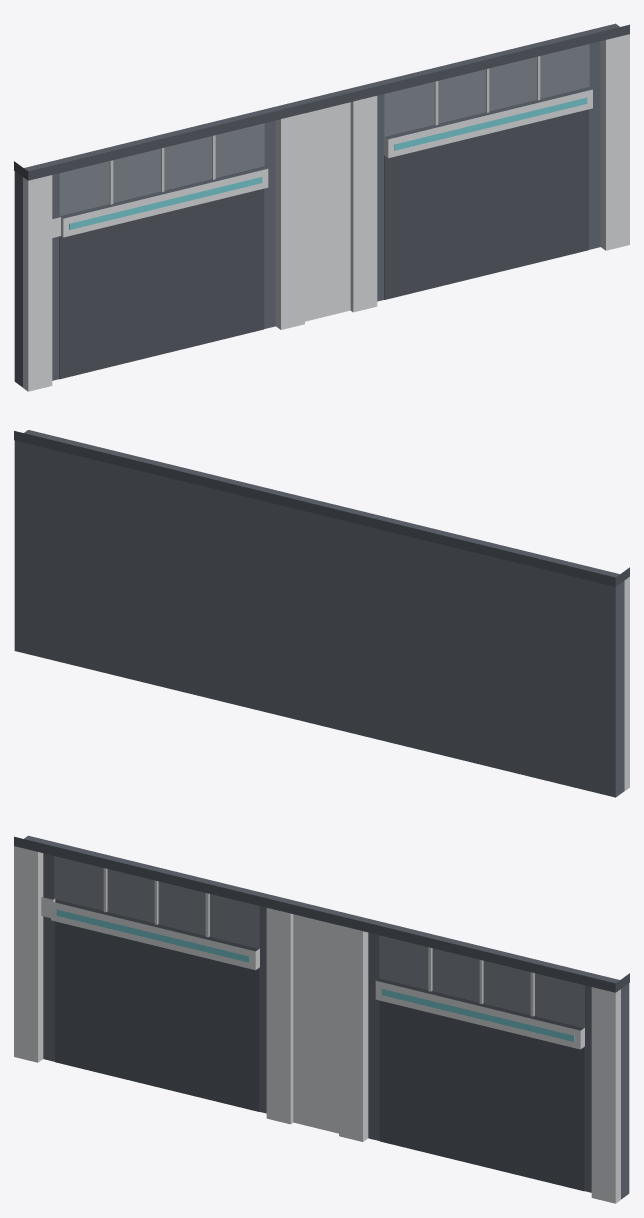
The model's file is ext_nbr_tram_depot.glb.
The picture shows the model from 3 angles, top to bottom: view 1: azimuth 30°, elevation 25°; view 2: azimuth 150°, elevation 25°; view 3: azimuth 330°, elevation 25°; orthographic projection.
Parts seen in each view (by area): view 1: Portals, Wall, Piers, Clerestory_Glass, Bay_Spandrels, Cornice, Lintels, Civic_Livery, Clerestory_Mullions; view 2: Wall, Cornice, Piers; view 3: Portals, Wall, Piers, Clerestory_Glass, Bay_Spandrels, Cornice, Lintels, Civic_Livery, Clerestory_Mullions.
Boxes of the visible parts, box(x1,y1,x2,y2) form: Portals: box(59, 109, 588, 379); Wall: box(14, 41, 600, 387); Piers: box(23, 34, 629, 391); Clerestory_Glass: box(59, 44, 589, 215); Bay_Spandrels: box(52, 102, 350, 321); Cornice: box(14, 23, 629, 180); Lintels: box(59, 89, 592, 237); Civic_Livery: box(69, 97, 587, 229); Clerestory_Mullions: box(109, 56, 540, 204); Wall: box(14, 440, 624, 797); Cornice: box(14, 430, 629, 586); Piers: box(624, 577, 629, 791); Portals: box(55, 921, 584, 1191); Wall: box(43, 853, 629, 1199); Piers: box(14, 846, 620, 1203); Clerestory_Glass: box(54, 856, 584, 1027); Bay_Spandrels: box(41, 897, 338, 1133); Cornice: box(14, 835, 629, 992); Lintels: box(51, 901, 584, 1049); Civic_Livery: box(56, 909, 574, 1041); Clerestory_Mullions: box(103, 868, 534, 1016).
Size of the model in its own units: 20 by 7 by 0.82.
